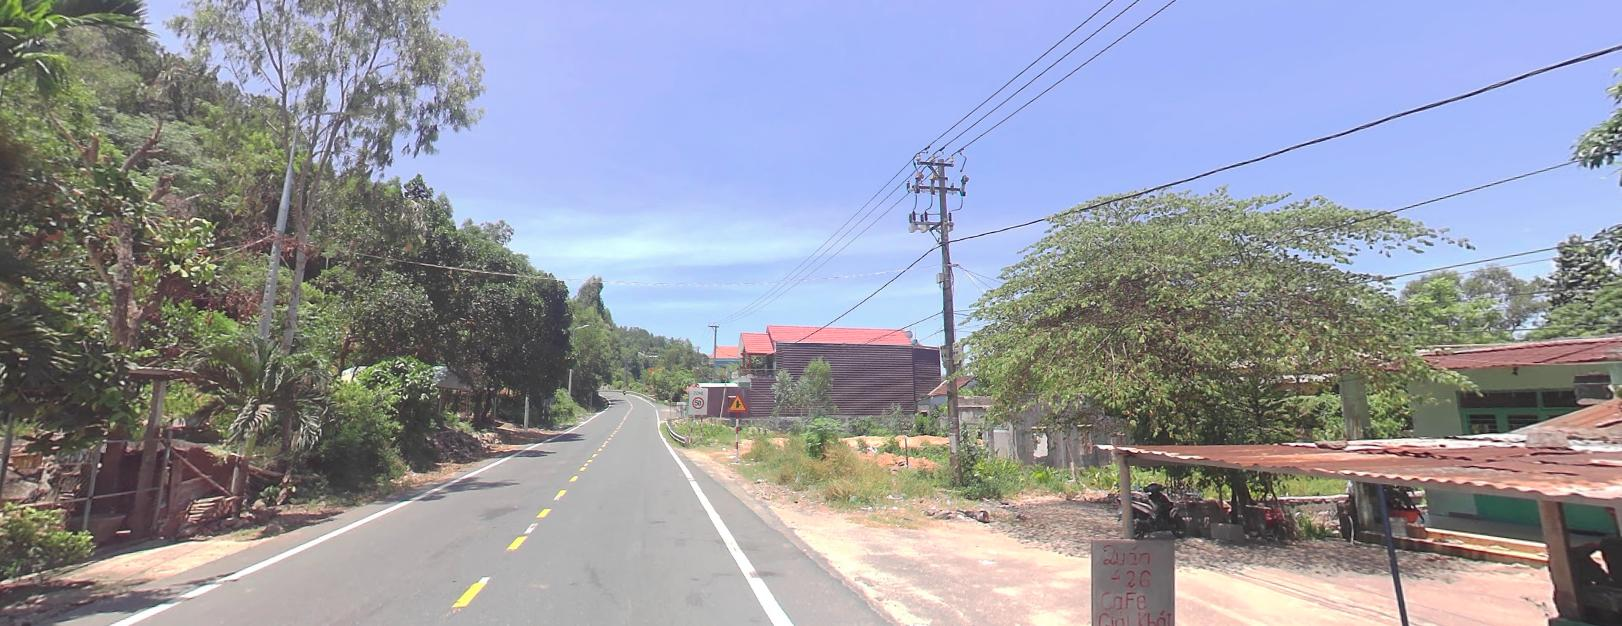Gioi han toc do: (691, 395, 703, 408)
Nguy hiem: (727, 392, 743, 410)
